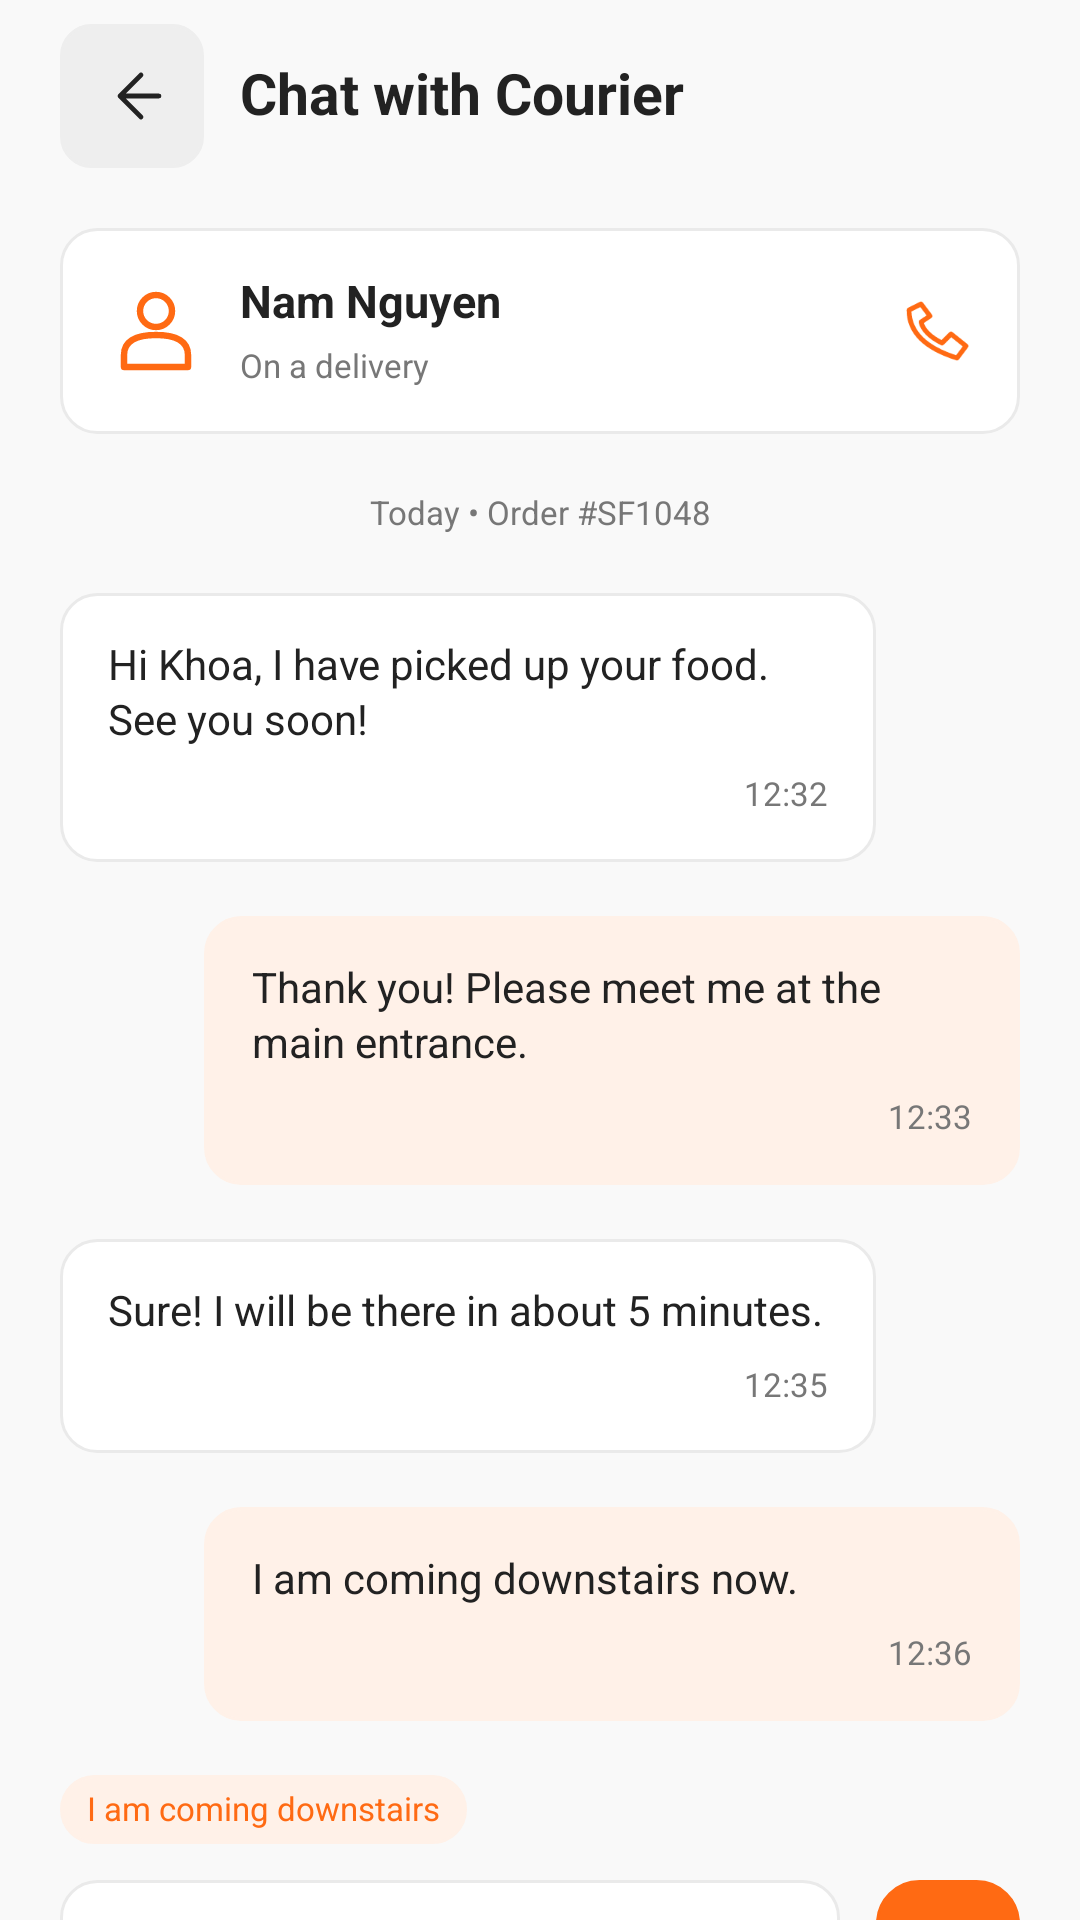

Point at icon controls on the screen. Image size 1080px x 1920px, points as point (x, y).
Back: point (132, 96)
tv person: point (156, 331)
tv phone: point (937, 331)
